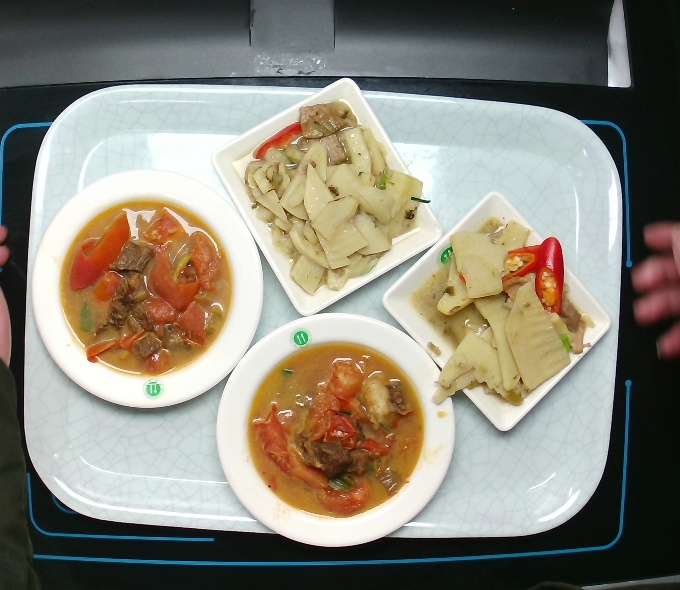wcq-DongSun: (235, 100, 423, 304), (413, 211, 601, 415)
wcq-FanQiwNiuRou: (50, 185, 253, 386), (236, 334, 438, 535)
